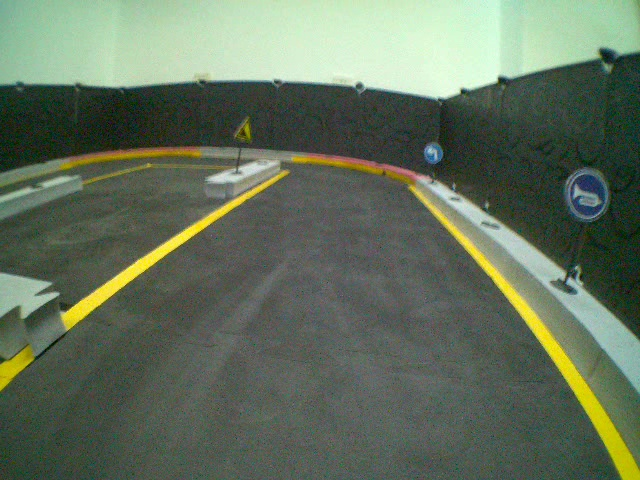fast: (233, 113, 255, 142)
horn: (563, 165, 611, 220)
turn: (421, 141, 445, 164)
